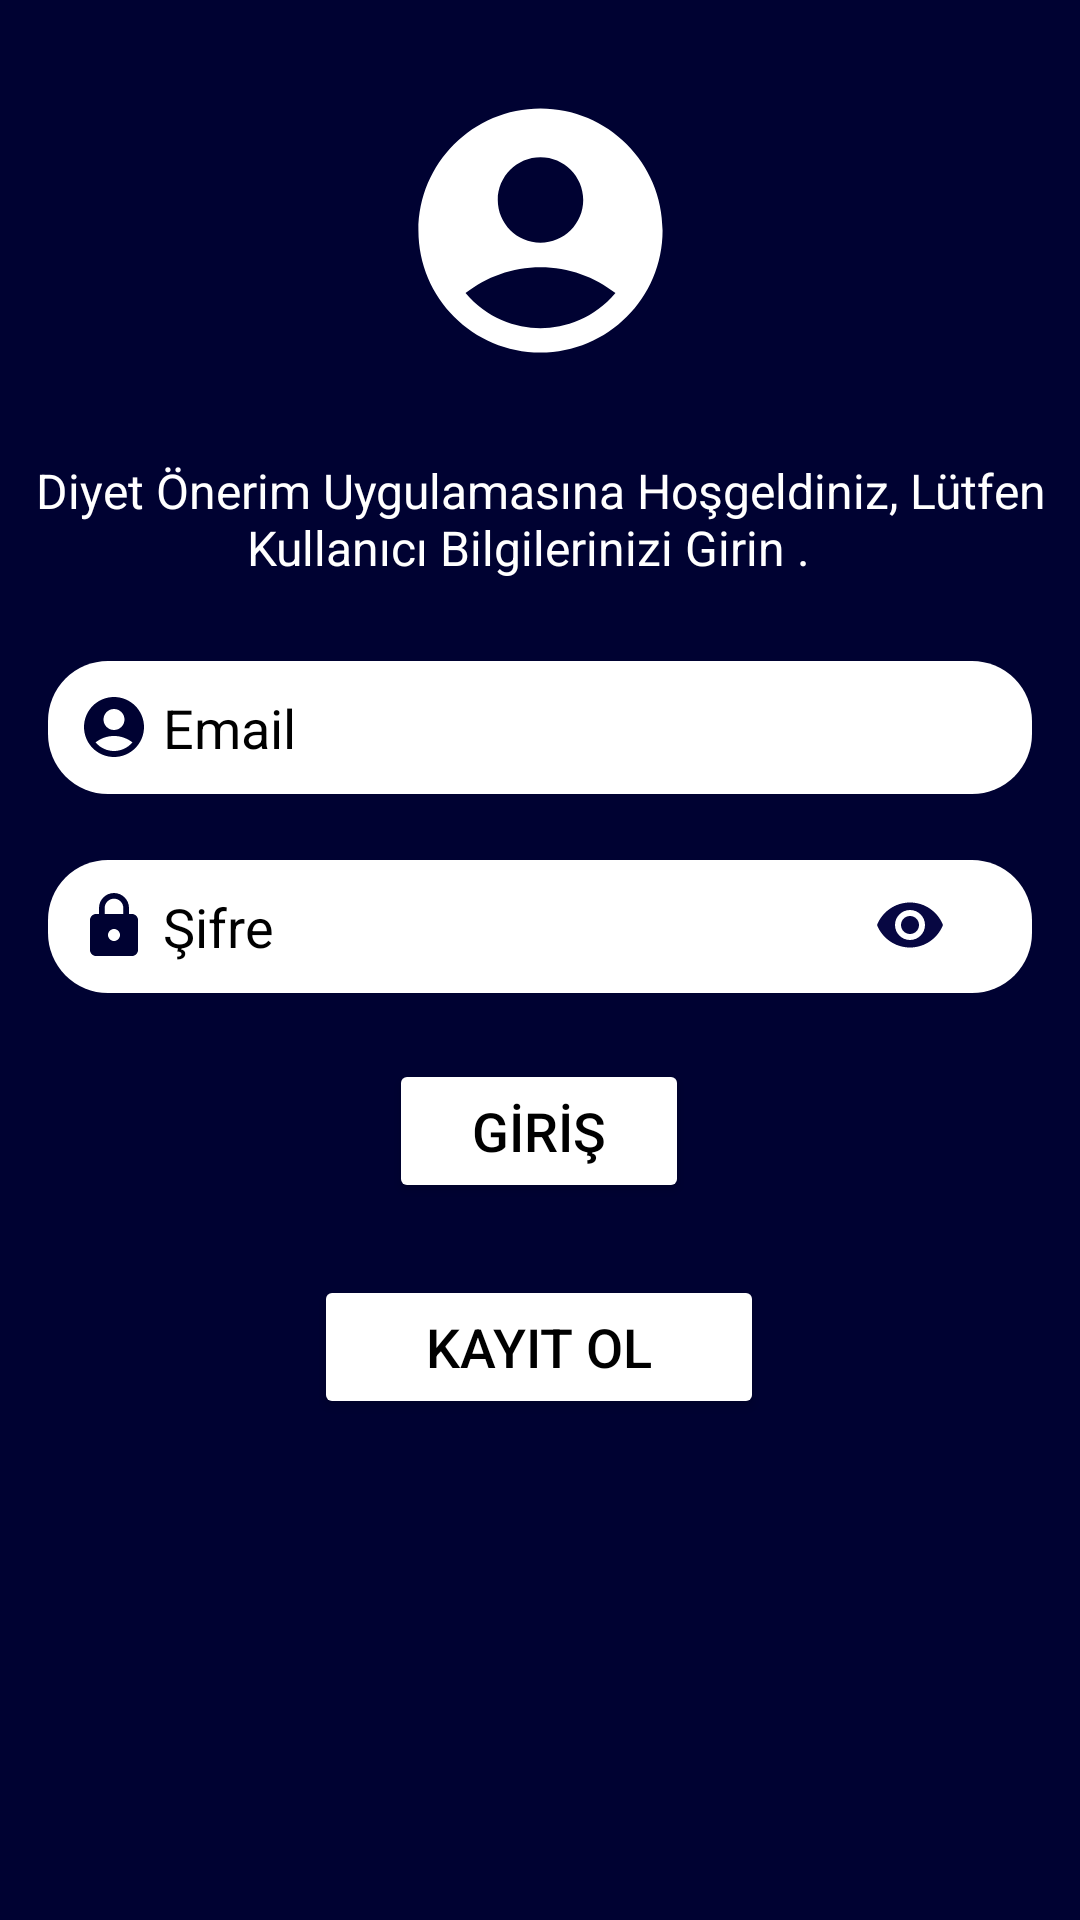

Named icons in this screenshot (1080 x 1920) and their centers, (x,y):
eye: (910,925)
